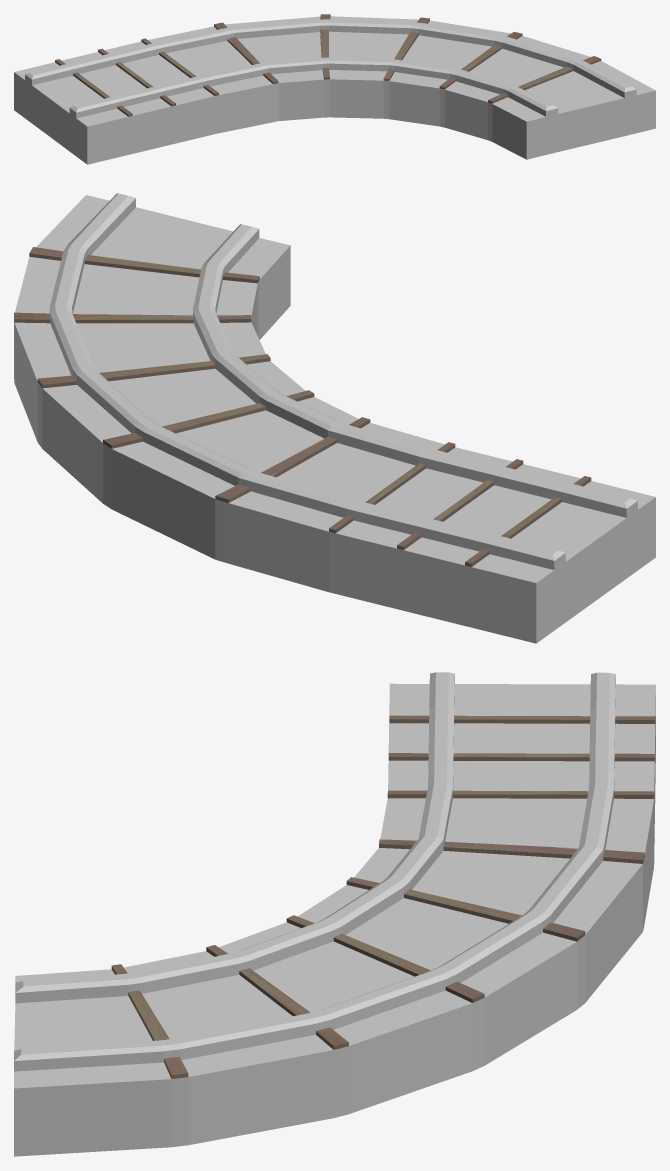
File: FlatBend.fbx
3 views of the same model, one above another, from view 1: azimuth 30°, elevation 25°; view 2: azimuth 150°, elevation 25°; view 3: azimuth 270°, elevation 25° (orthographic). The views are drawn at different scales.
Parts seen in each view (by area): view 1: Cube.001; view 2: Cube.001; view 3: Cube.001.
Boxes of the visible parts, x1,y1,x2,y2 form: Cube.001: (14,14,655,164); Cube.001: (14,193,655,643); Cube.001: (14,672,655,1156).
Bounding box in the file's own units: 720 × 68.23 × 482.
